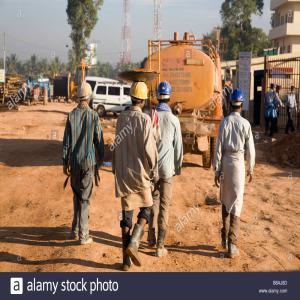blue: (229, 89, 247, 117), (157, 80, 173, 108)
yellow: (130, 82, 149, 111), (77, 82, 94, 109)
